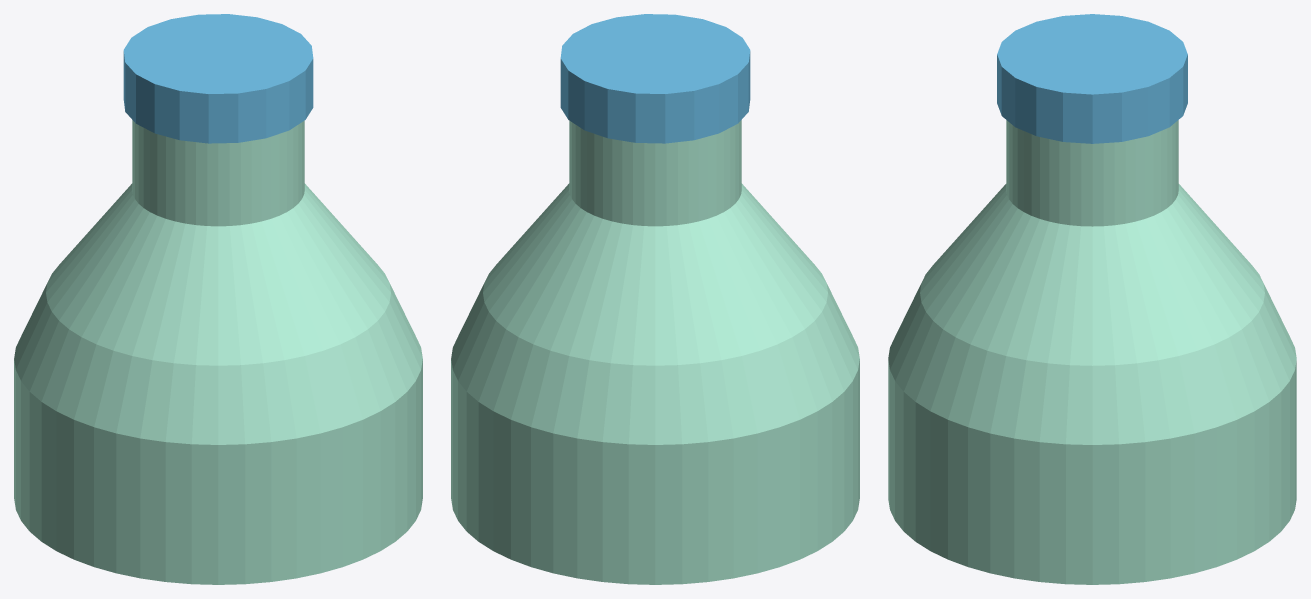
The model's file is botella_superior.glb.
3 renders of one model, left to right at view 1: azimuth 30°, elevation 25°; view 2: azimuth 150°, elevation 25°; view 3: azimuth 270°, elevation 25°, orthographic.
Bounding box in the file's own units: 0.09 × 0.108 × 0.09.
